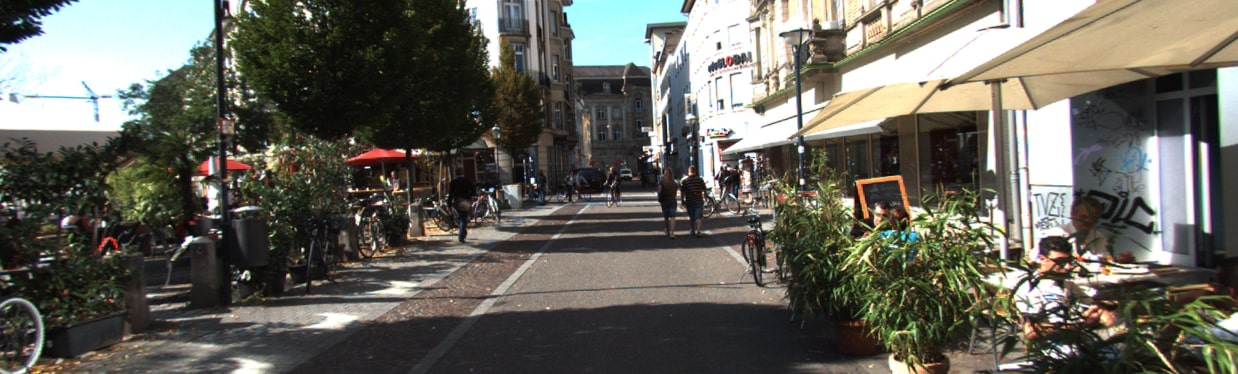Cyclist: (598, 161, 629, 212), (554, 171, 581, 208)
car: (578, 163, 599, 196)
person: (1029, 235, 1088, 337), (448, 166, 477, 249), (680, 167, 702, 237), (656, 171, 678, 236)
